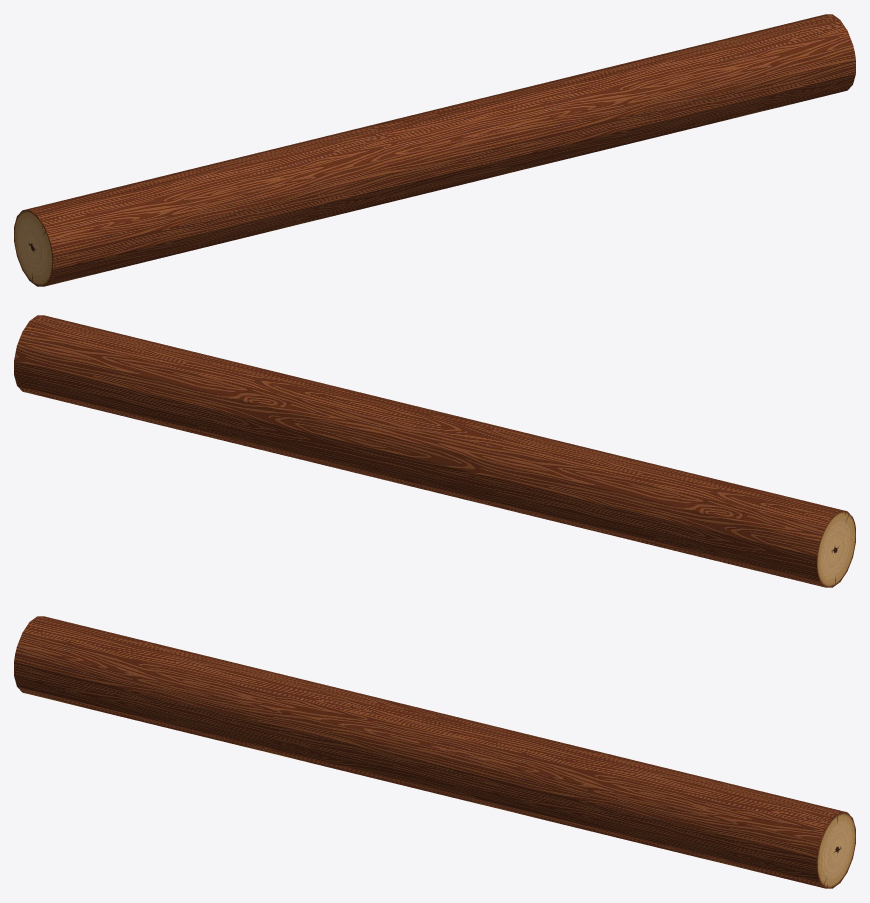
The model's file is log.fbx.
3 renders of one model, top to bottom at view 1: azimuth 30°, elevation 25°; view 2: azimuth 150°, elevation 25°; view 3: azimuth 330°, elevation 25°, orthographic.
Parts seen in each view (by area): view 1: Log; view 2: Log; view 3: Log.
Boxes of the visible parts, box(x1,y1,x2,y2) form: Log: box(14, 14, 855, 286); Log: box(14, 315, 855, 587); Log: box(14, 616, 855, 888).
Bounding box in the file's own units: 95.75 × 8.08 × 8.06.
1 material, 1 textured.
